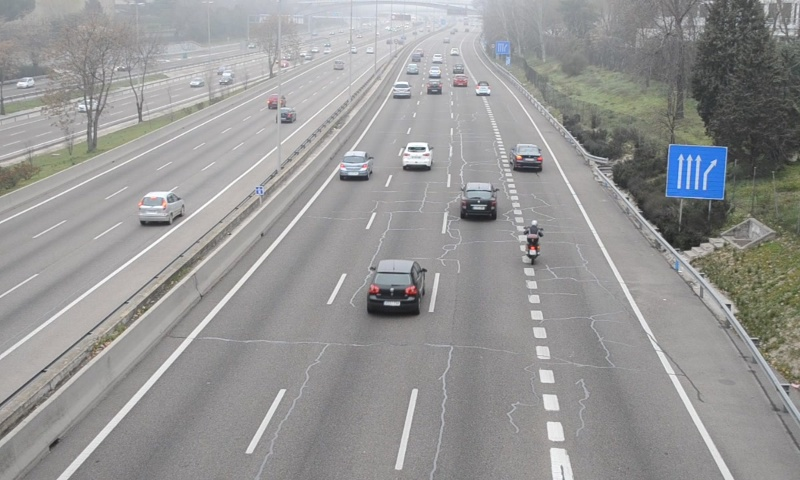car: (366, 260, 424, 314), (460, 183, 495, 220), (510, 143, 544, 170), (402, 142, 434, 170), (340, 151, 372, 178), (392, 81, 412, 100), (426, 78, 443, 94), (476, 80, 491, 96)
motorcycle: (522, 218, 545, 266)
